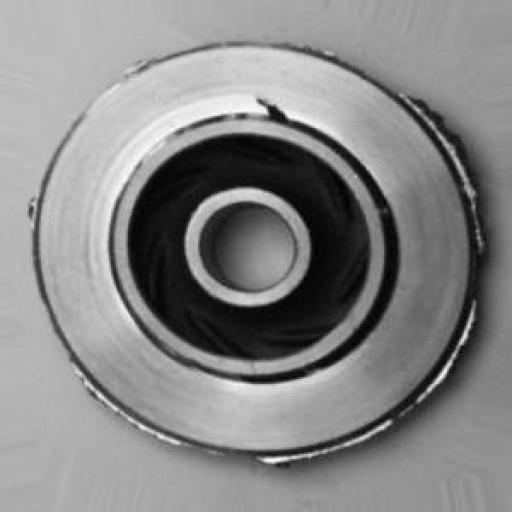defect: (62, 24, 498, 488)
